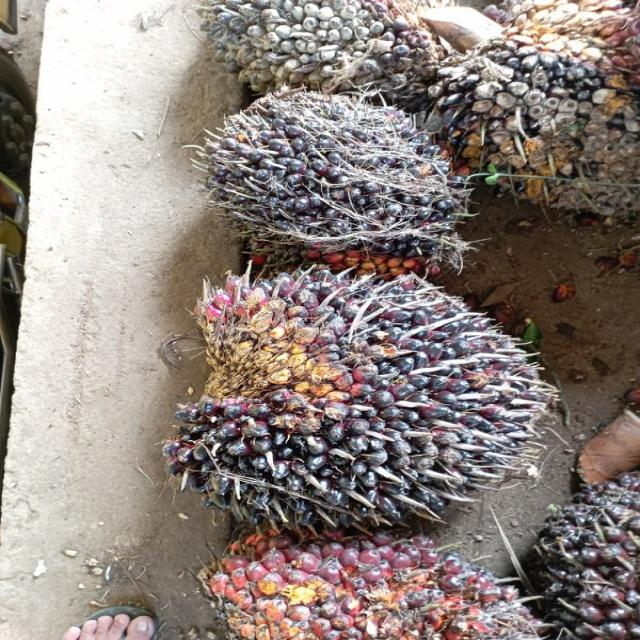fraksi 00: (148, 258, 558, 521), (203, 90, 466, 266), (438, 0, 639, 204), (200, 0, 443, 93)
fraksi 3: (173, 520, 551, 640)
